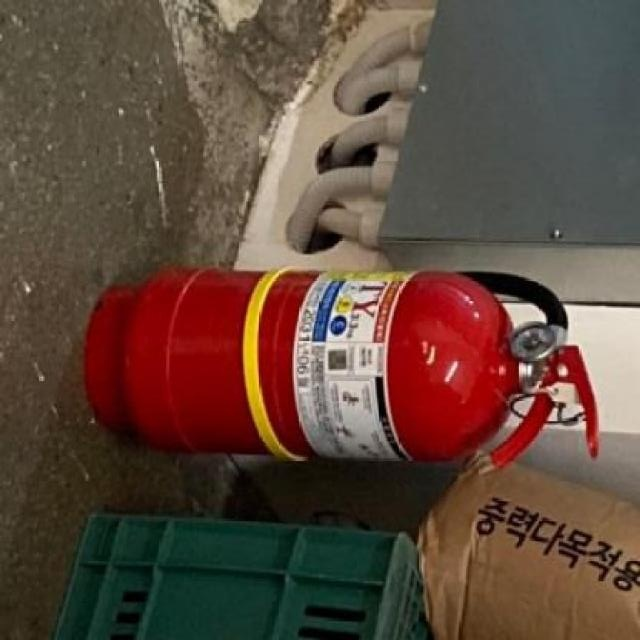fire extinguisher: (85, 265, 600, 469)
